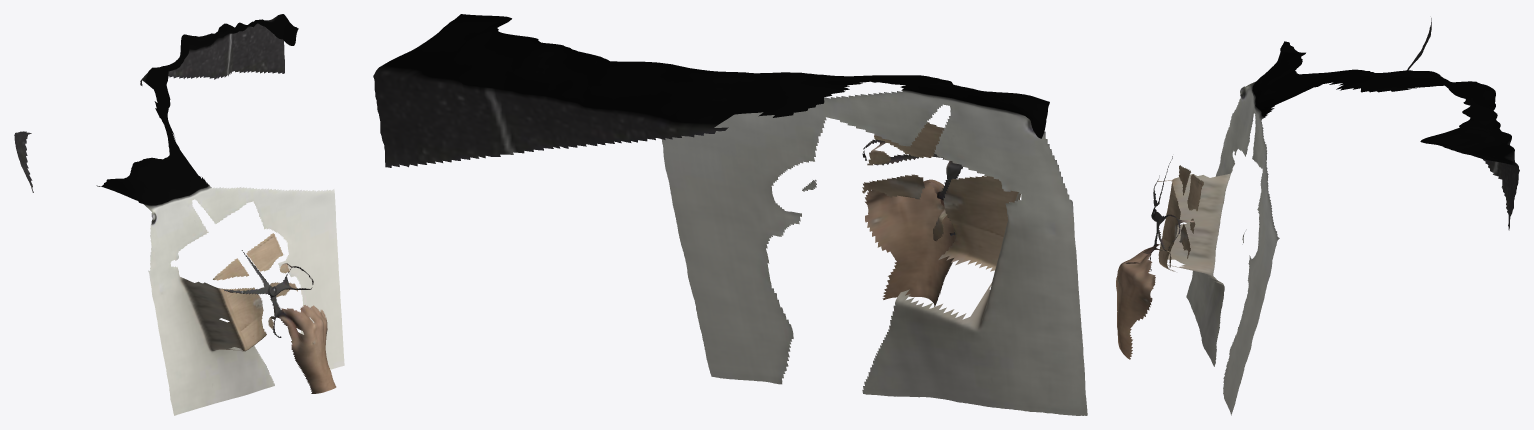
3 views of the same model, side by side, from view 1: azimuth 30°, elevation 25°; view 2: azimuth 150°, elevation 25°; view 3: azimuth 270°, elevation 25° (orthographic). The views are drawn at different scales.
Parts seen in each view (by area): view 1: world; view 2: world; view 3: world.
Boxes of the visible parts, x1,y1,x2,y2 form: world: [14, 14, 344, 415]; world: [373, 14, 1087, 415]; world: [1116, 18, 1519, 415].
Size of the model in its own units: 0.7111 by 0.5872 by 0.7017.
1 material, 1 textured.
